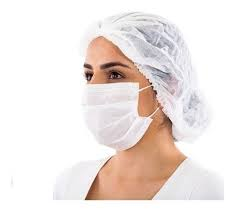with_mask_and_cap: (81, 14, 180, 150)
